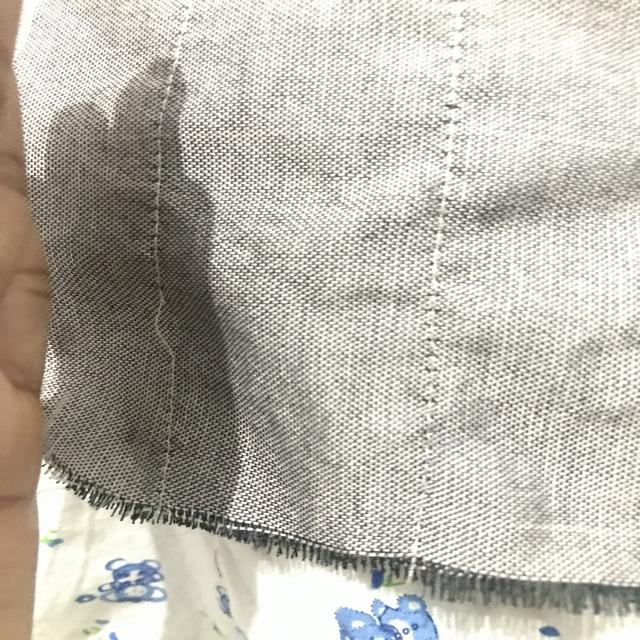good: (142, 154, 173, 252)
skip: (142, 293, 193, 378)
